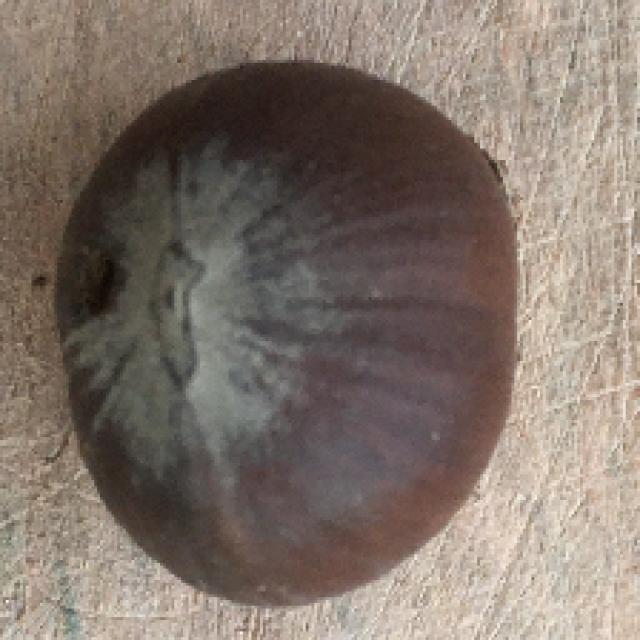DamagedHazelnut: (55, 57, 520, 608)
